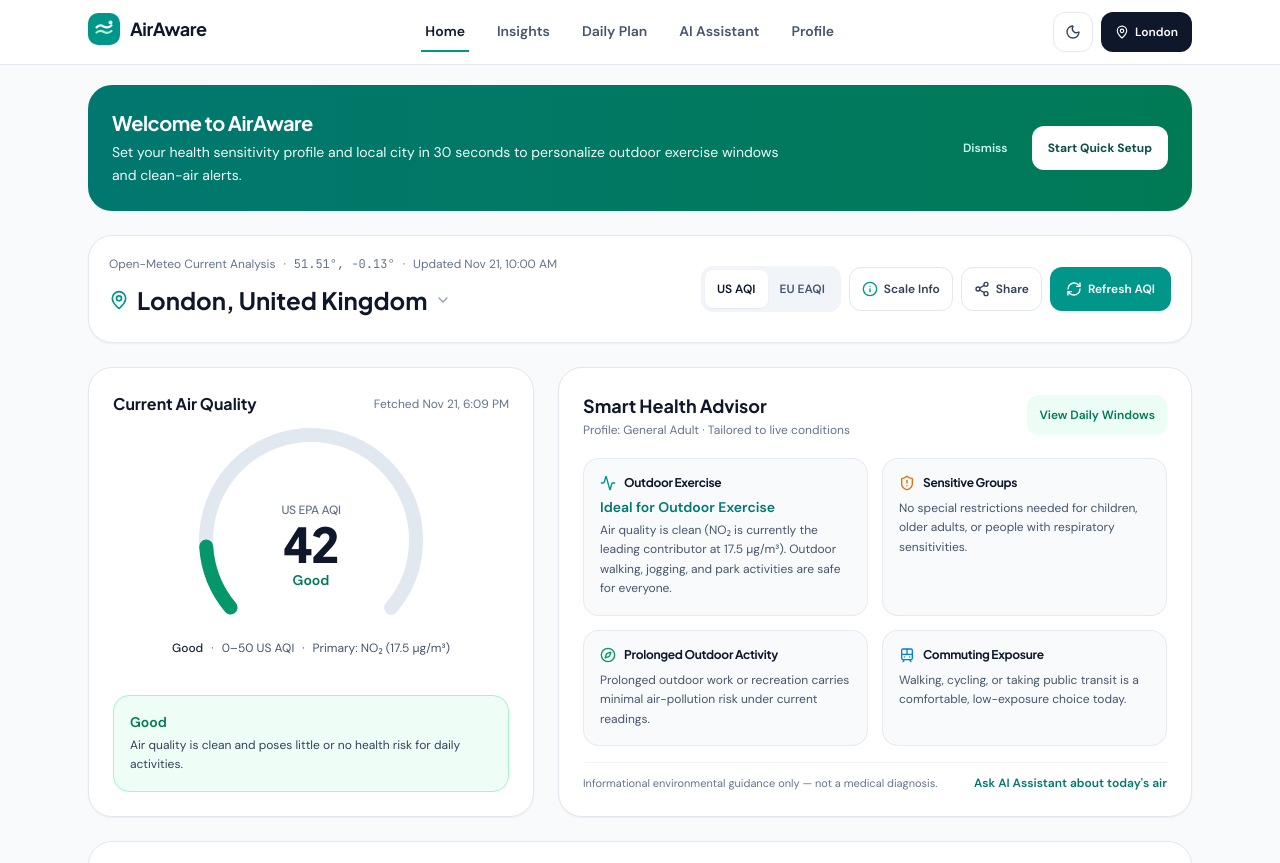
Test case: AirAware Application Workflows › supports city search via Open-Meteo Geocoding and updates dashboard readings
This screenshot has width=1280, height=863.
expect the text "42" is shown: met, box [283, 520, 339, 568]
Click the button with aria-label "Change location".
click(1146, 32)  # box [1101, 12, 1192, 52]
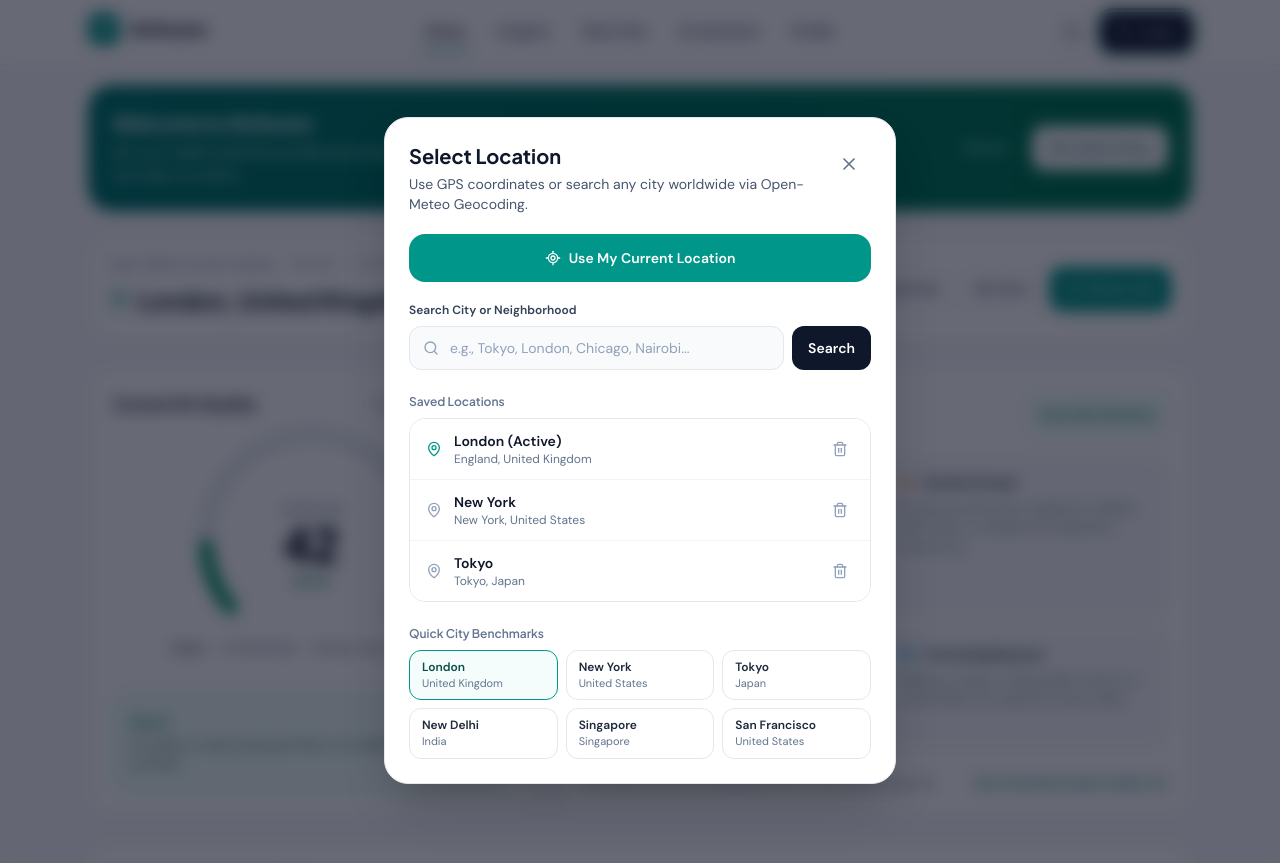
Type "Osaka" into the field labelled "Search City or Neighborhood".
click(597, 348); type("Osaka")  # box [409, 326, 784, 370]
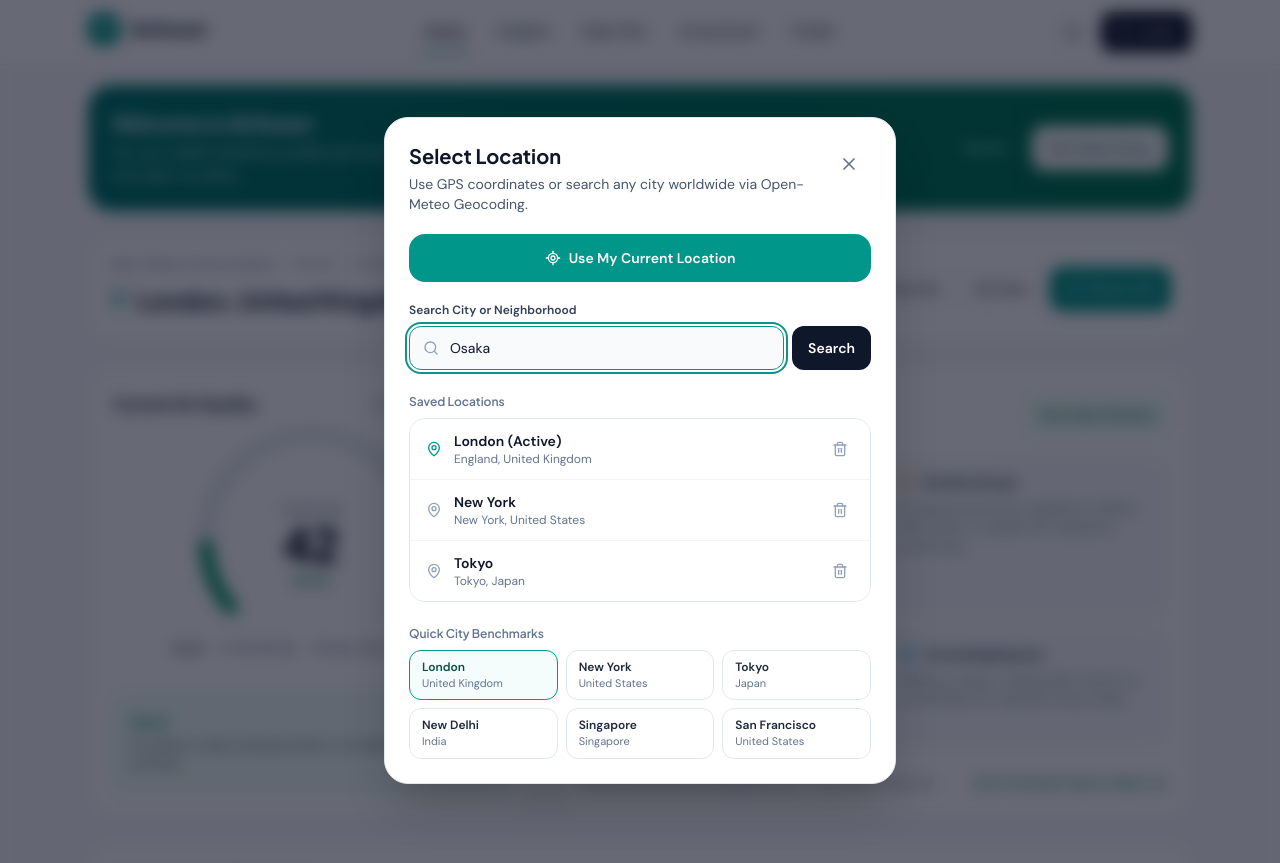
Click the button "Search".
click(832, 348)  # box [792, 326, 871, 370]
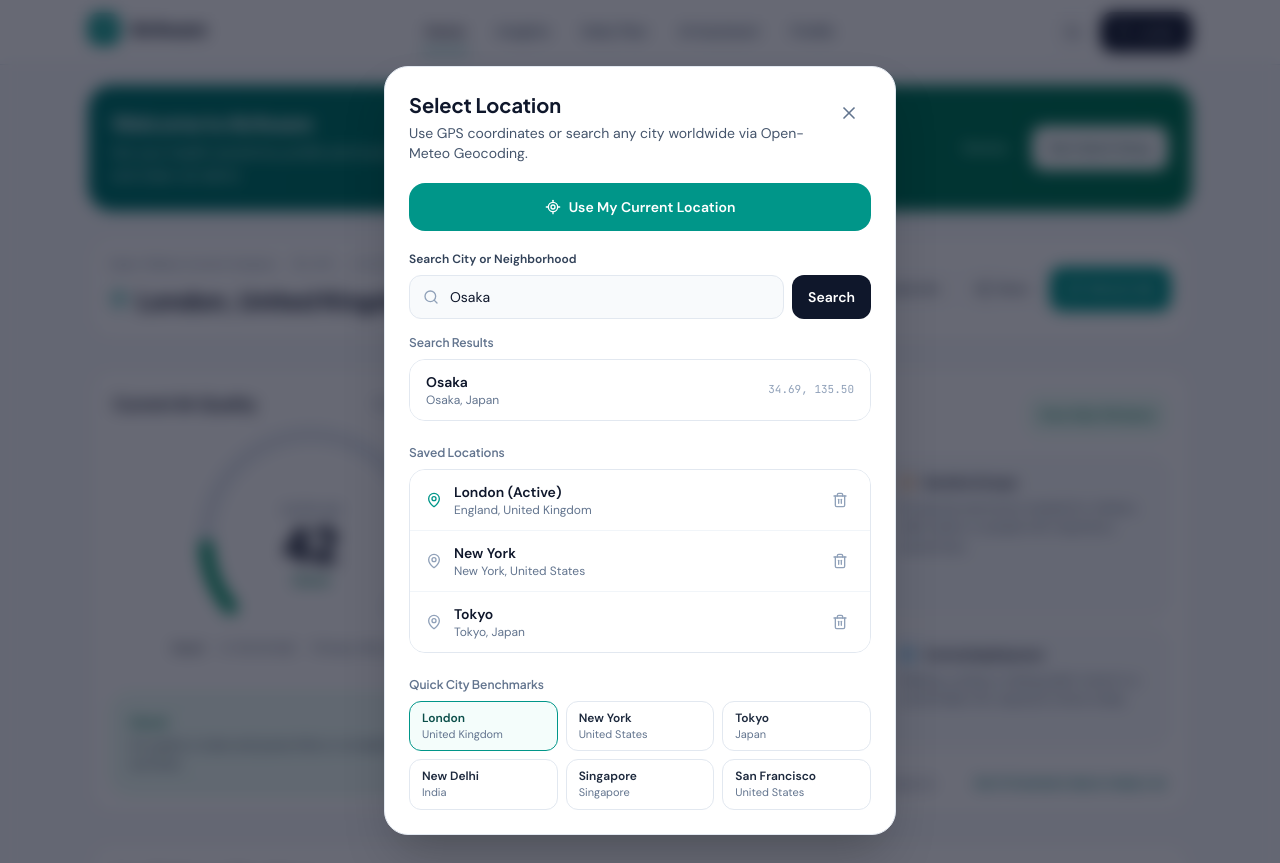
expect the heading "Search Results" is shown: met, box [409, 334, 494, 350]
expect the button "Osaka Osaka, Japan 34.69, 135.50" is shown: met
Click the button "Osaka Osaka, Japan 34.69, 135.50".
click(447, 382)  # box [410, 360, 870, 420]
(page scrolled)
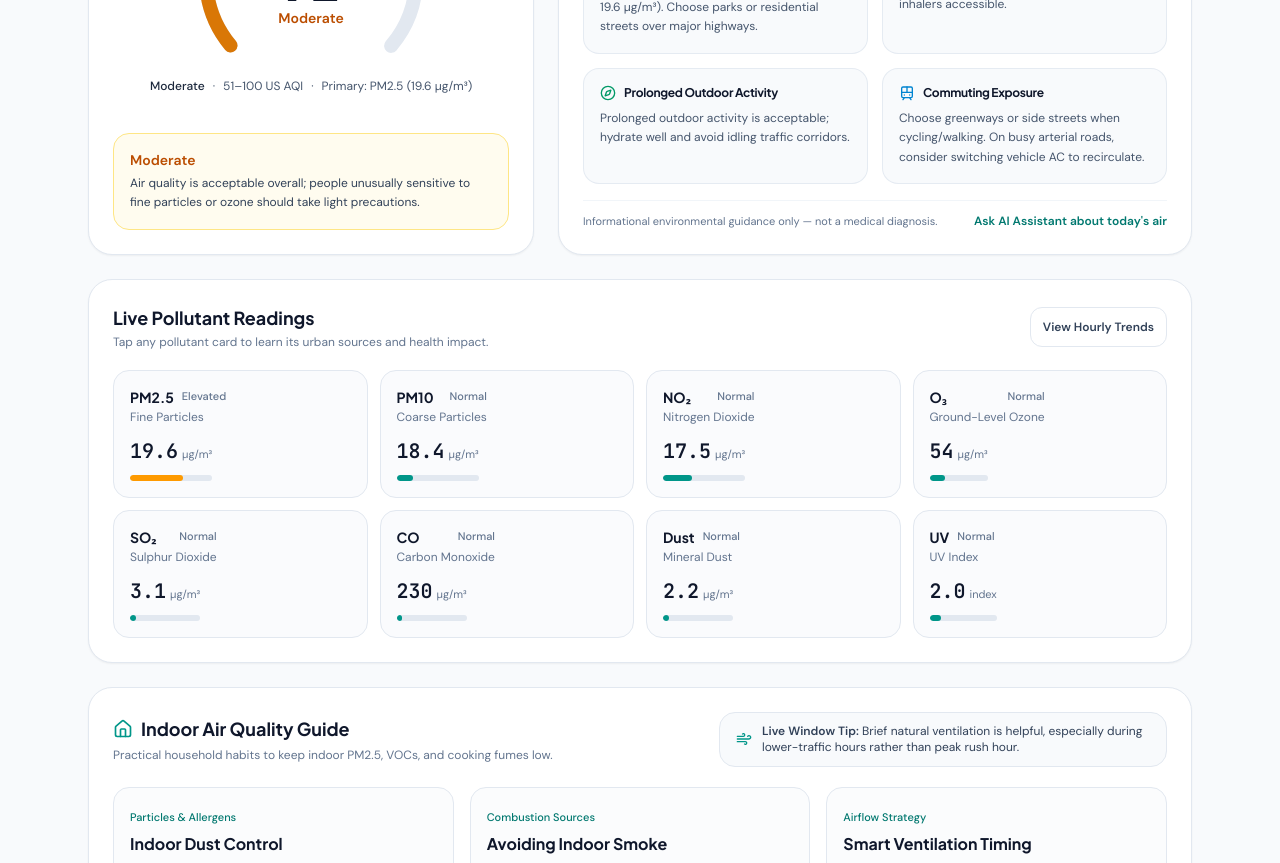
expect the text "19.6" is shown: met, box [130, 436, 178, 464]
